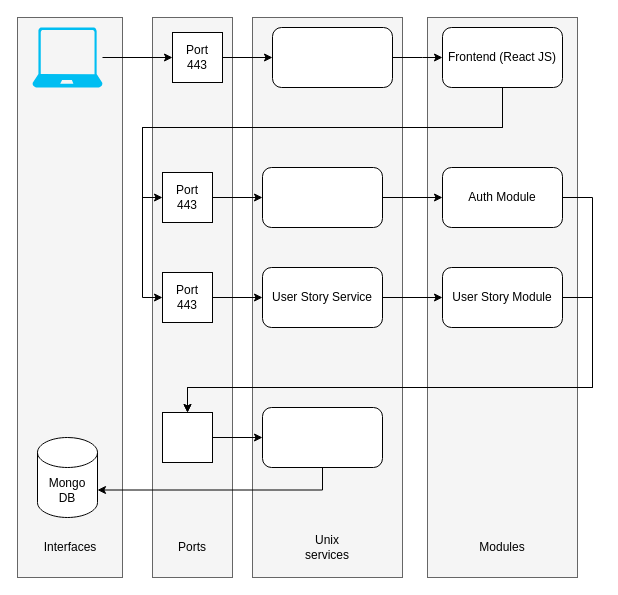
This 618x595 diagram has some shape labels left out. The centre of each missing label's shape, as x and y in pixels:
Auth Service: (322,197)
Frontend Service: (332,57)
MongoDB Service: (322,437)
Port 27017: (187,437)
